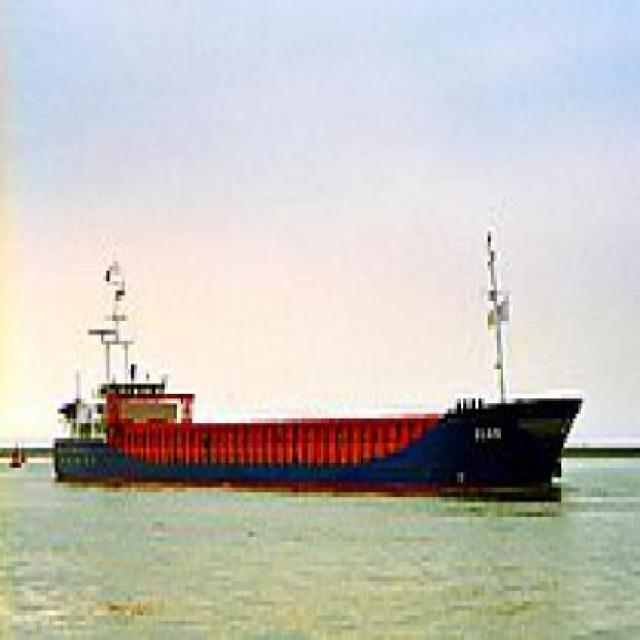container: (44, 316, 590, 518)
